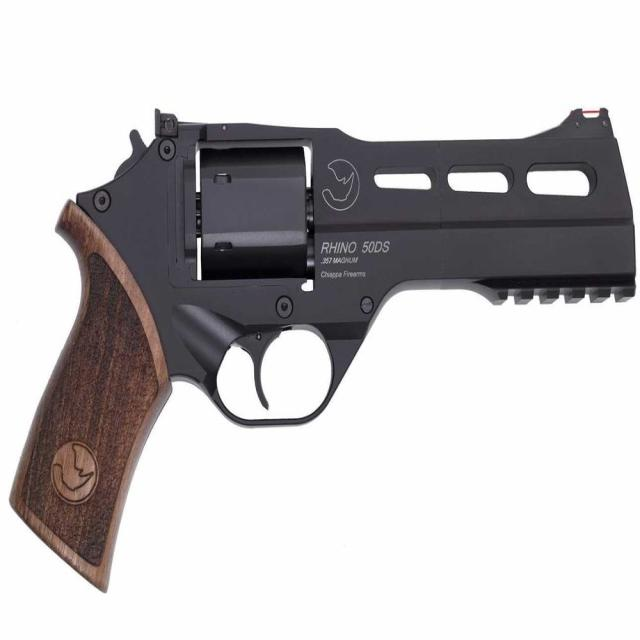HandGun: (9, 109, 640, 596)
